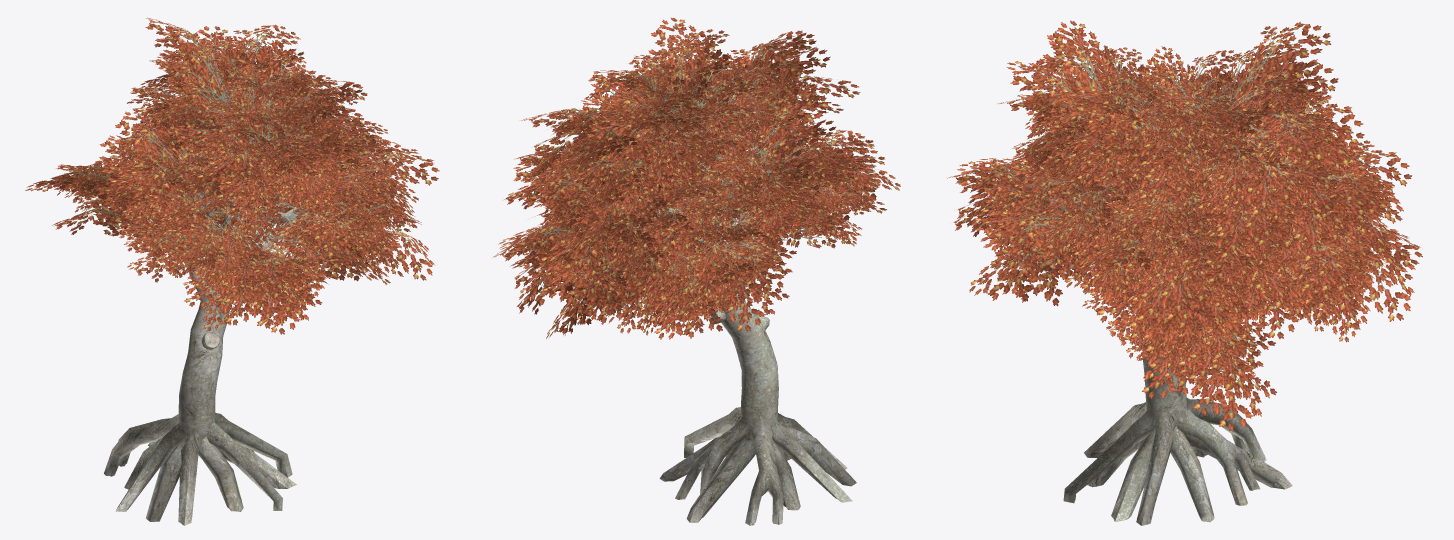
The picture shows the model from 3 angles, left to right: view 1: azimuth 30°, elevation 25°; view 2: azimuth 150°, elevation 25°; view 3: azimuth 270°, elevation 25°; orthographic projection. The views are drawn at different scales.
Parts seen in each view (by area): view 1: yggrassil_02; view 2: yggrassil_02; view 3: yggrassil_02.
Part boxes in pixels (box(x1,y1,x2,y2)): yggrassil_02: box(25, 17, 439, 525); yggrassil_02: box(493, 17, 900, 525); yggrassil_02: box(947, 20, 1422, 525).
Bounding box in the file's own units: 1002 × 1172 × 1152.
4 materials, 3 textured.
